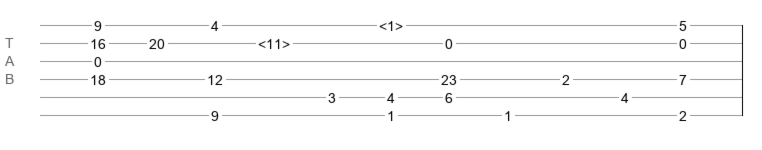0: (94, 54, 102, 64), (445, 36, 453, 46), (679, 36, 687, 46)
1: (387, 108, 395, 118), (504, 108, 512, 118)
12: (207, 72, 223, 82)
16: (90, 36, 106, 46)
18: (90, 72, 106, 82)
2: (562, 72, 570, 82), (679, 108, 687, 118)
20: (149, 36, 165, 46)
23: (441, 72, 457, 82)
3: (328, 90, 336, 100)
4: (211, 18, 219, 28), (387, 90, 395, 100), (621, 90, 629, 100)
5: (679, 18, 687, 28)
6: (445, 90, 453, 100)
7: (679, 72, 687, 82)
9: (94, 18, 102, 28), (211, 108, 219, 118)
harmonic: (258, 36, 290, 46), (379, 18, 403, 28)
